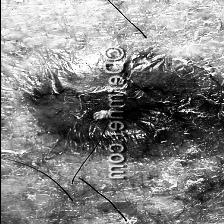Potentially Malignant Skin Tumors: (23, 52, 224, 160)
